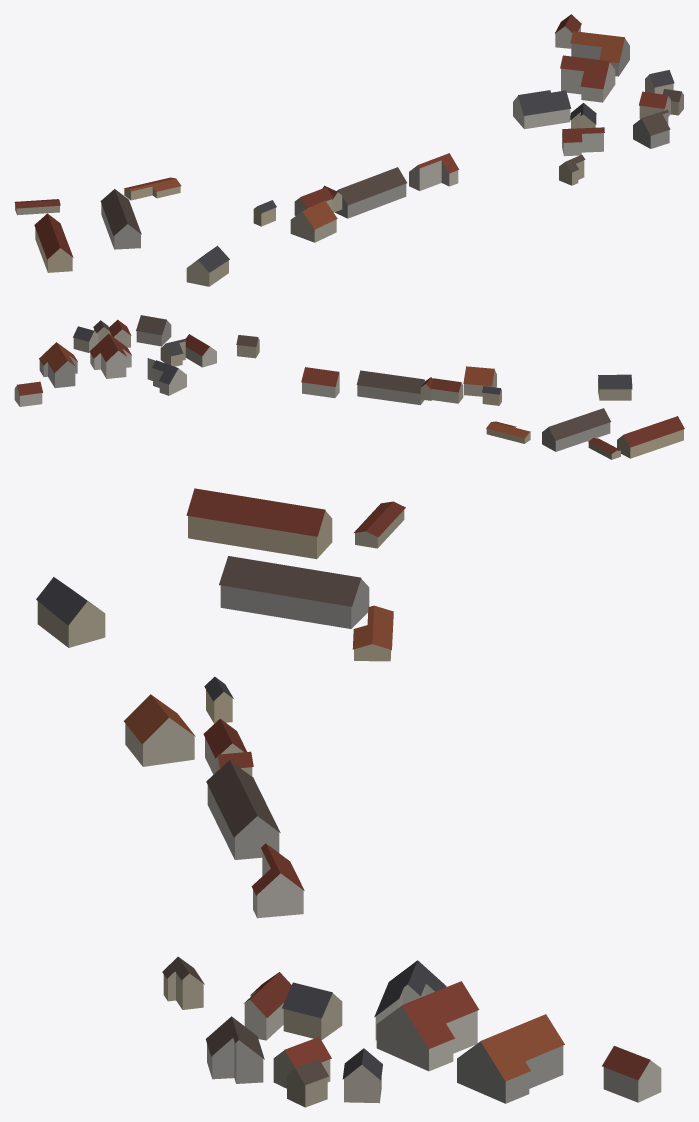
The picture shows the model from 3 angles, top to bottom: view 1: azimuth 30°, elevation 25°; view 2: azimuth 150°, elevation 25°; view 3: azimuth 270°, elevation 25°; orthographic projection. The views are drawn at different scales.
Parts seen in each view (by area): view 1: buildings; view 2: buildings; view 3: buildings.
Part boxes in pixels (bbox=[...]): buildings: bbox=[14, 14, 683, 286]; buildings: bbox=[14, 315, 684, 459]; buildings: bbox=[36, 488, 661, 1107].
Bounding box in the file's own units: 302 × 23.11 × 144.
